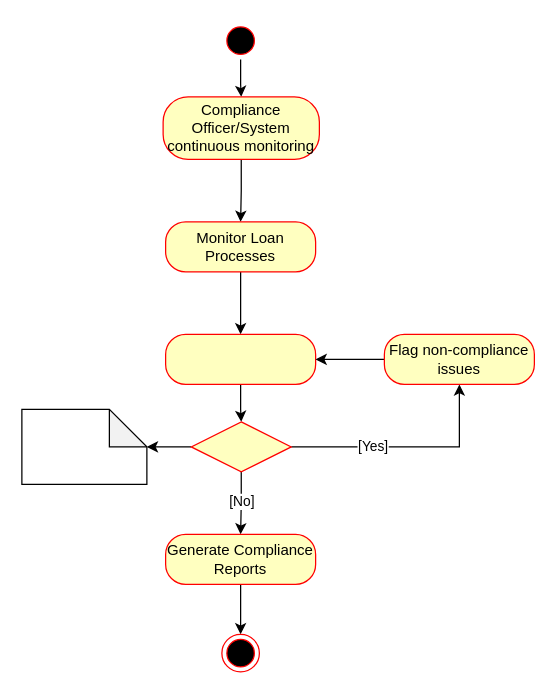
This 556x694 diagram has some shape labels left out. The centre of each missing label's shape, as x and y in pixels:
"Check against regulatory requirements" belongs at [240,358].
"Non-compliance detected?" belongs at [84,446].
